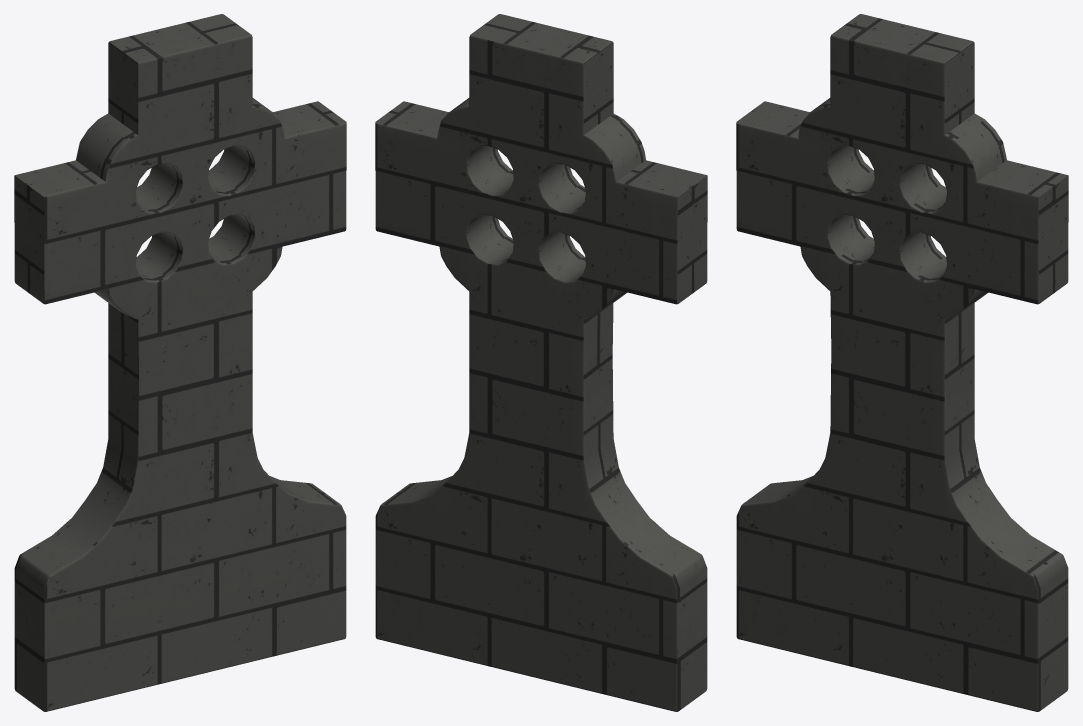
File: Gravestone_A_UV.fbx
3 views of the same model, side by side, from view 1: azimuth 30°, elevation 25°; view 2: azimuth 150°, elevation 25°; view 3: azimuth 330°, elevation 25° (orthographic).
Parts seen in each view (by area): view 1: Gravestone_A; view 2: Gravestone_A; view 3: Gravestone_A.
Part boxes in pixels (x1,y1,x2,y2): Gravestone_A: [14, 14, 346, 711]; Gravestone_A: [375, 14, 707, 711]; Gravestone_A: [736, 14, 1068, 711].
Size of the model in its own units: 37.74 by 74.46 by 6.57.
